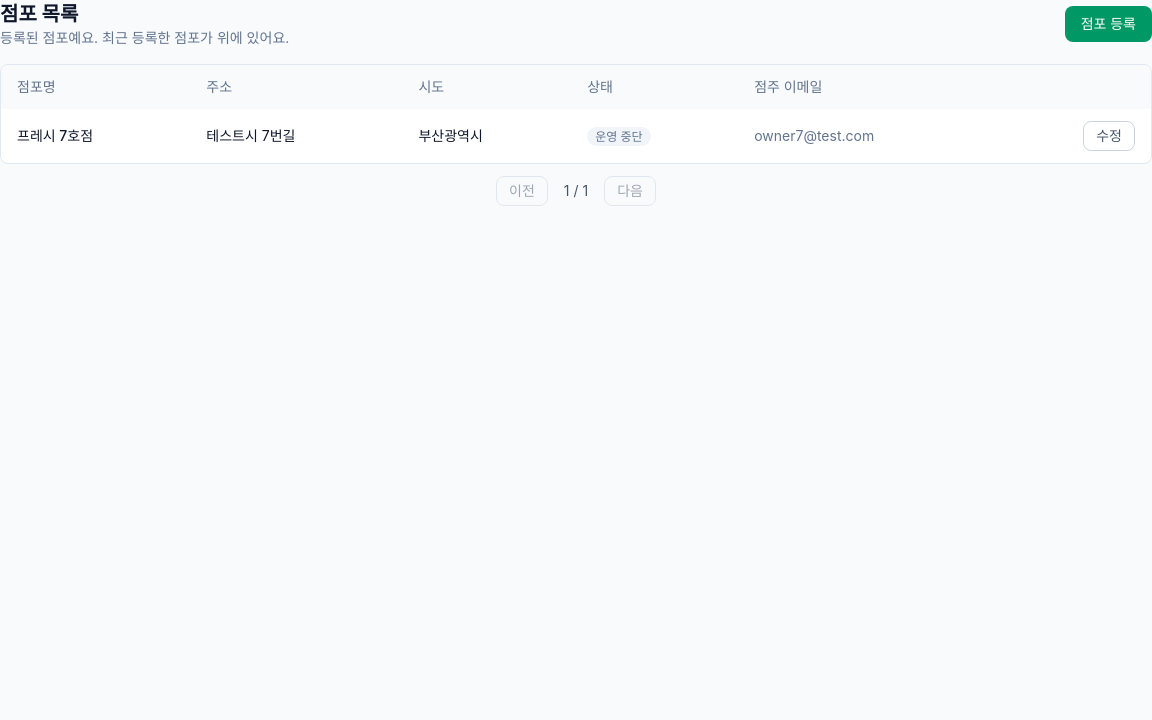
Test: 관리자 점포 수정 모달 (A-02) › INACTIVE 점포도 수정할 수 있고 초기값이 맞다
Click the button "수정". click: (1109, 136)
box: [1083,121,1135,151]
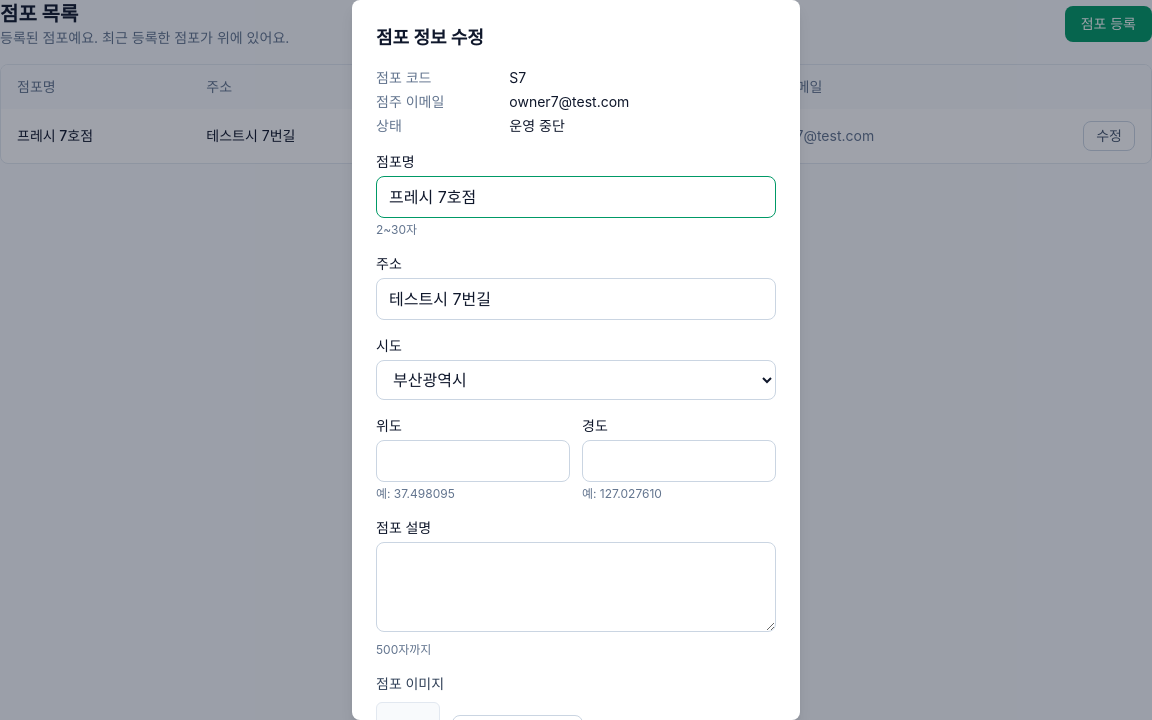
Check: the field labelled "점포명" holds "프레시 7호점", box [376,176,776,218]
Check: the dropdown labelled "시도" shows "부산광역시", box [376,360,776,400]
